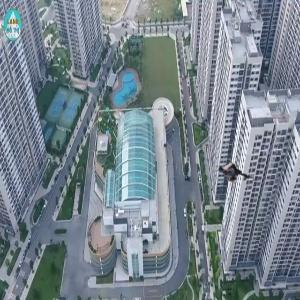drone: (217, 157, 254, 194)
